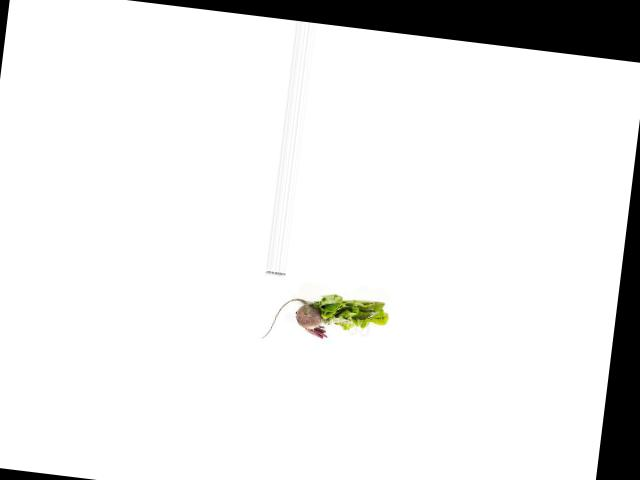beet: (260, 294, 332, 346)
